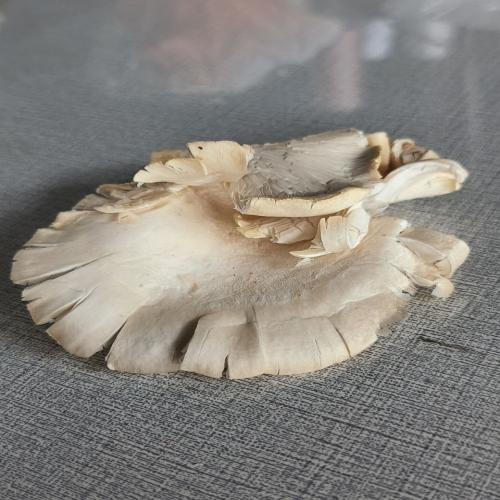Oyster Mushroom: (9, 135, 470, 385)
